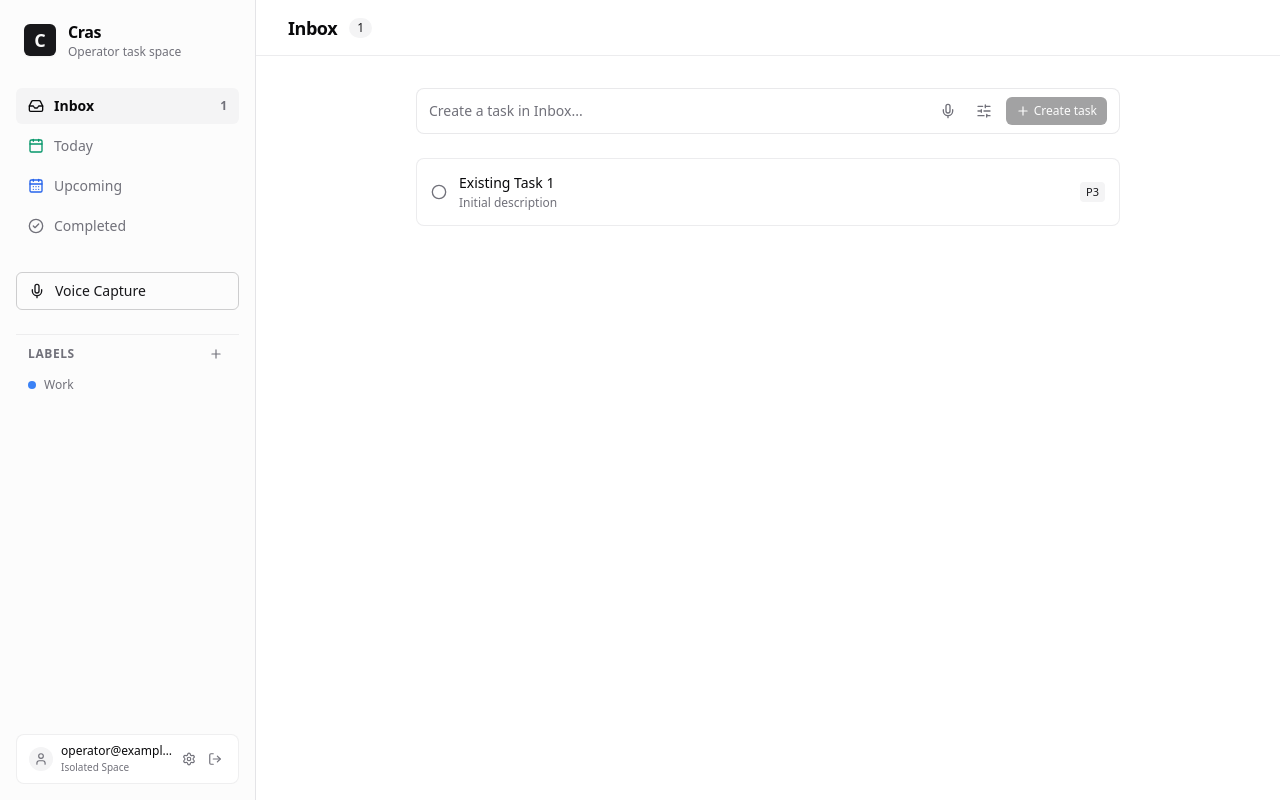
Voice Capture & Task Management Journey on Web (Issue #53) › Acceptance Criterion: Ordinary task features remain fully functional when Voice fails or is rate-limited
The width and height of the screenshot is (1280, 800).
Check: the text "Existing Task 1" is shown, box left=459, top=173, right=554, bottom=192
Click the button "Voice Capture" at point(128, 291), box left=16, top=272, right=239, bottom=310
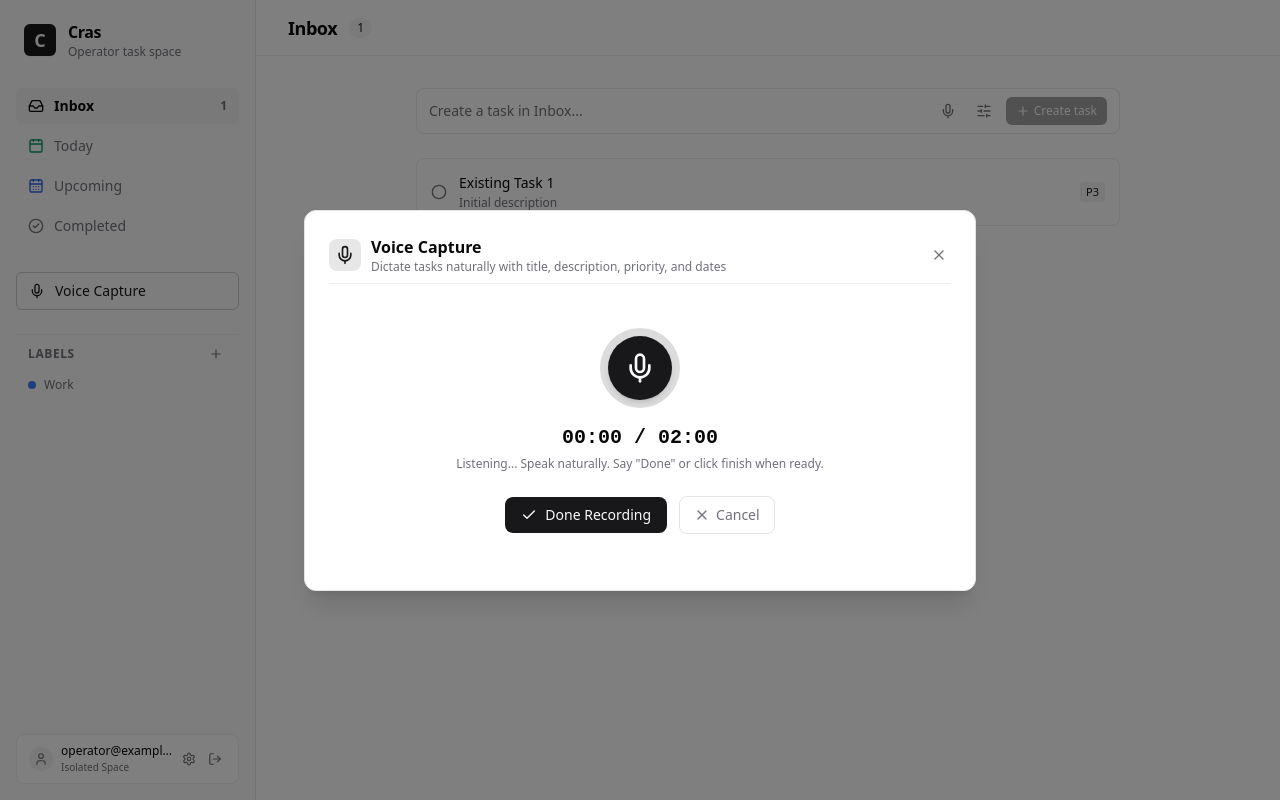
Click the button "Done Recording" at point(586, 514), box left=505, top=496, right=667, bottom=532
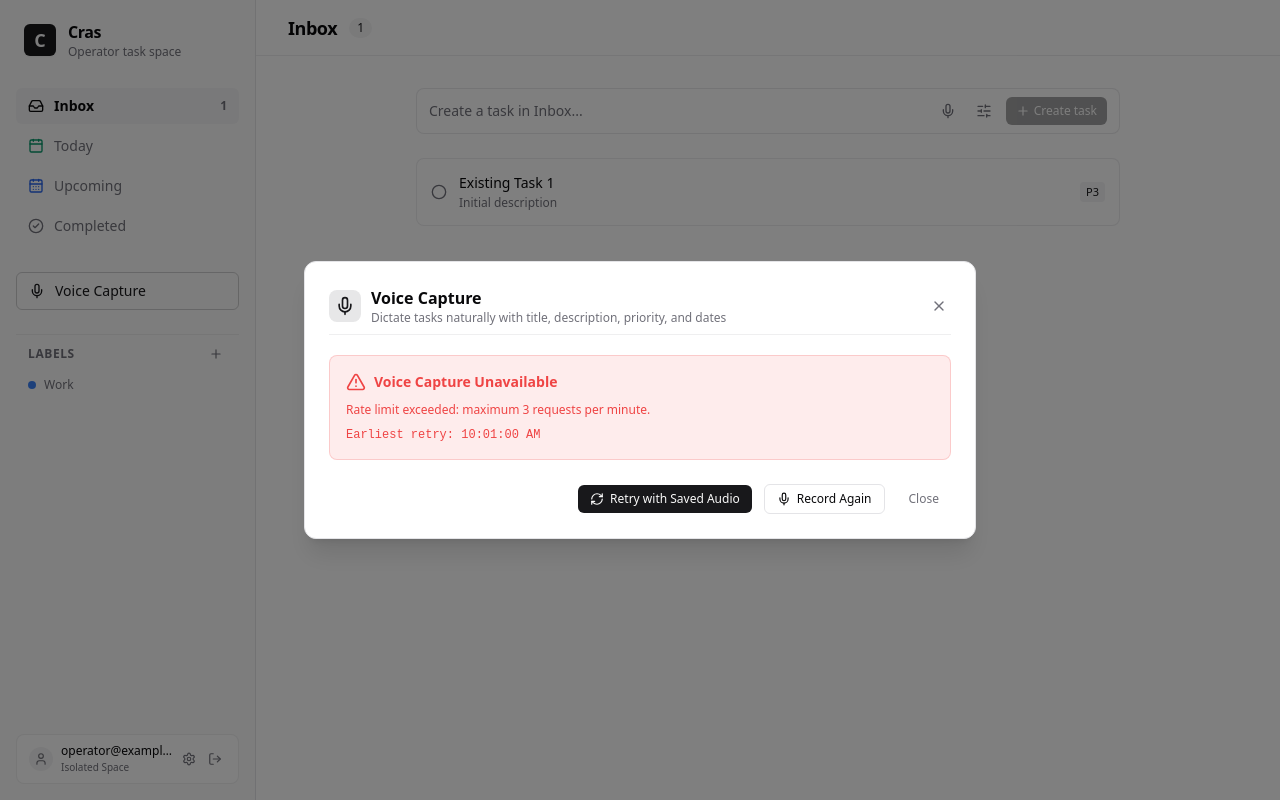
Check: the text "Rate limit exceeded: maximum 3 requests per minute." is shown, box left=346, top=401, right=650, bottom=418
// Close the error modal
Click the button named "close voice capture dialog" at point(939, 306), box left=927, top=294, right=951, bottom=318
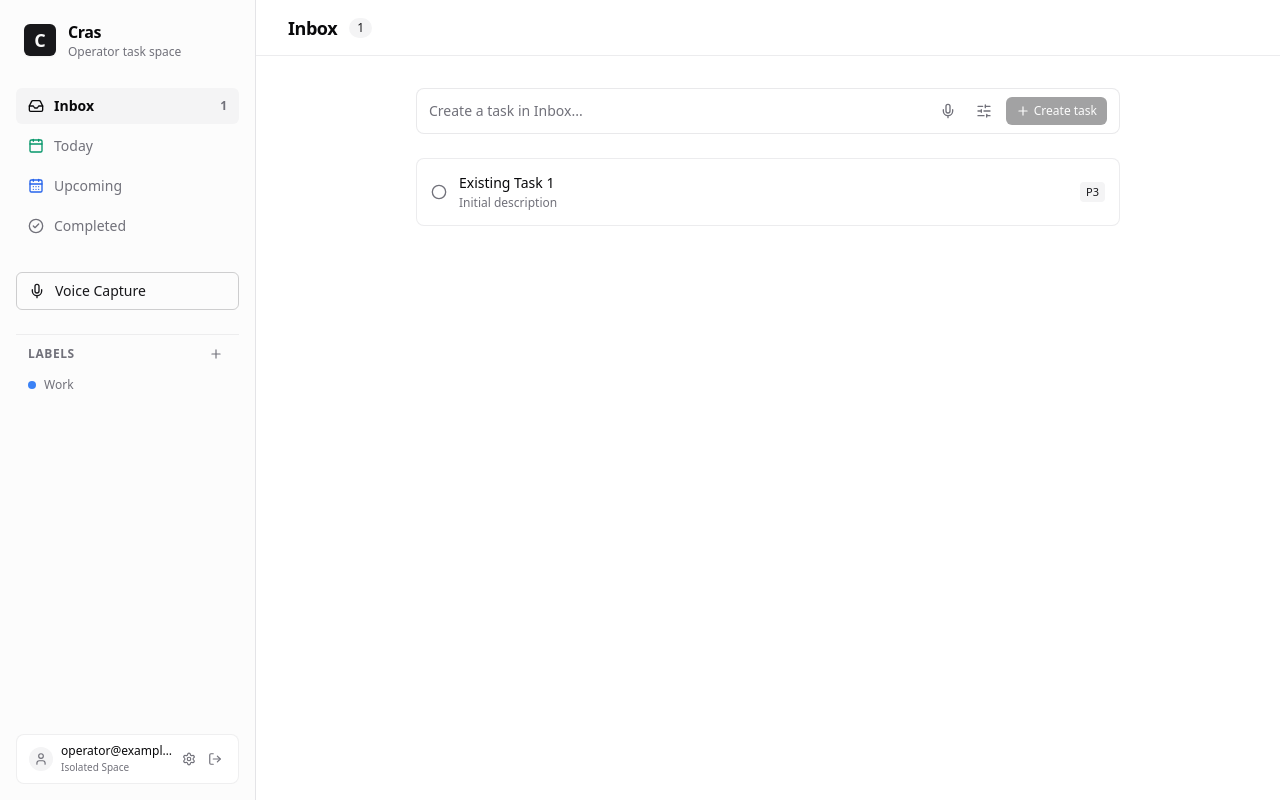
// Verify ordinary task creation in input still works without issue!
Type "Manual task while voice is down" into the field with test id "create-task-input" at point(677, 111), box left=429, top=97, right=926, bottom=125
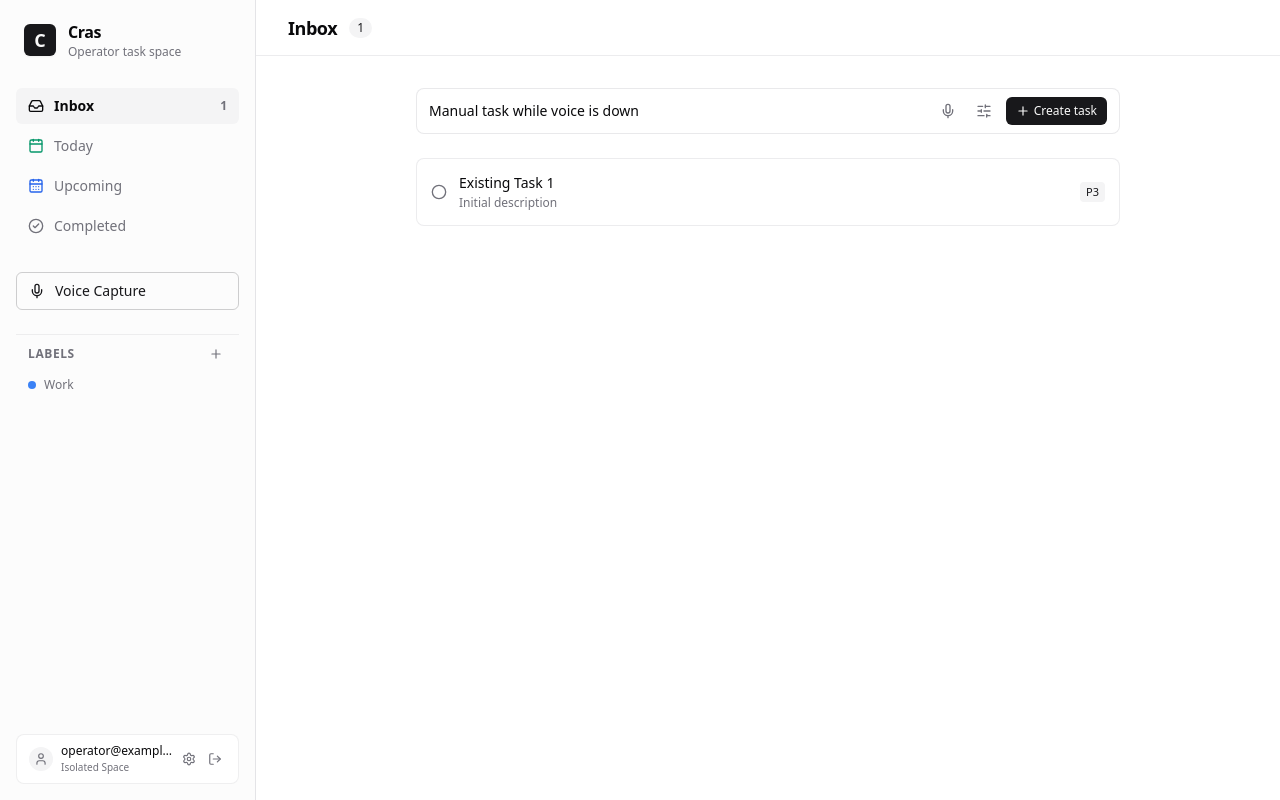
Press Enter in the field with test id "create-task-input", box left=429, top=97, right=926, bottom=125
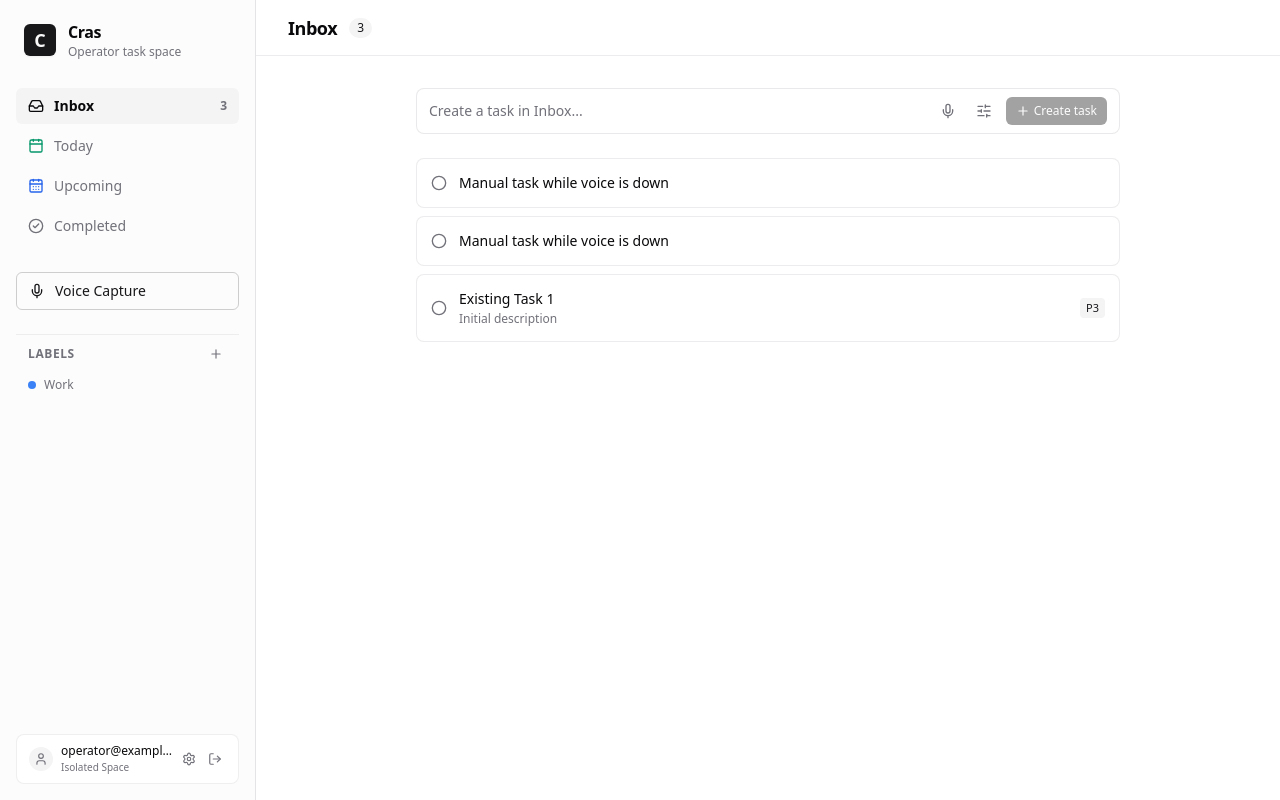
Check: the 2nd text "Manual task while voice is down" is shown, box left=459, top=231, right=669, bottom=250
